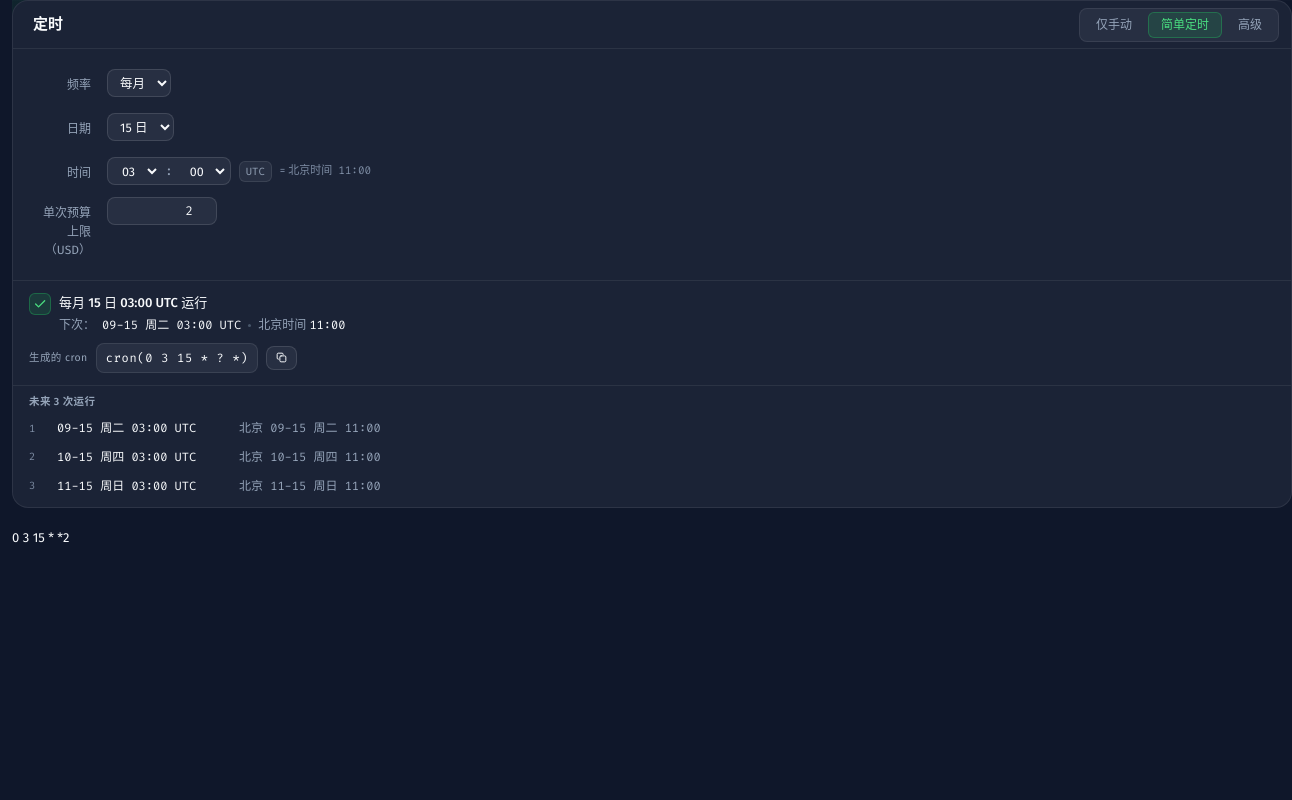
SchedulePicker：简单档 › 每月档：日期下拉只有 1–28；29-31 风险讲解块已删
Expected: the dropdown with test id "sched-freq" shows "每月", [107,69,171,97]
Select "28 日" in the dropdown with test id "sched-dom" at (140, 127), box [107,113,174,141]
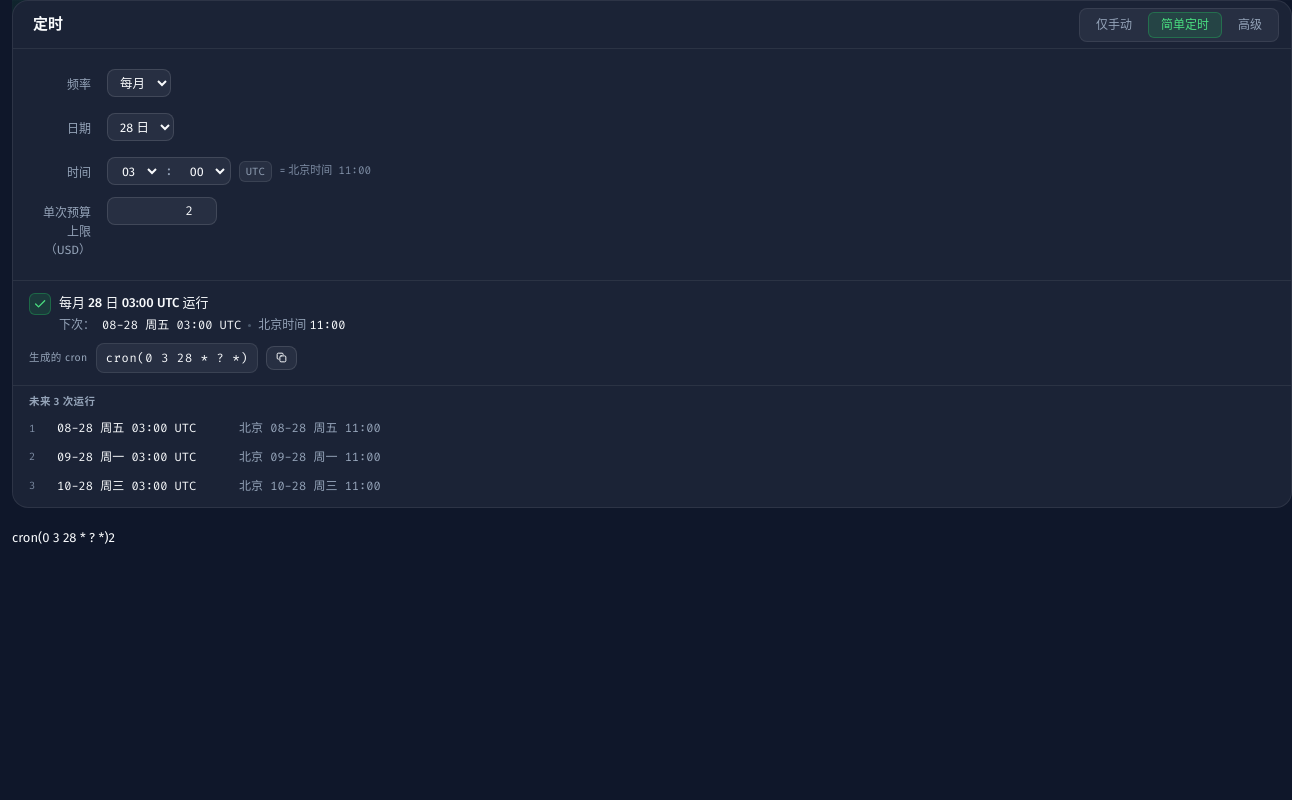
Expected: the text "cron(0 3 28 * ? *)" next to "生成的 cron" is shown, [106,350,248,366]
